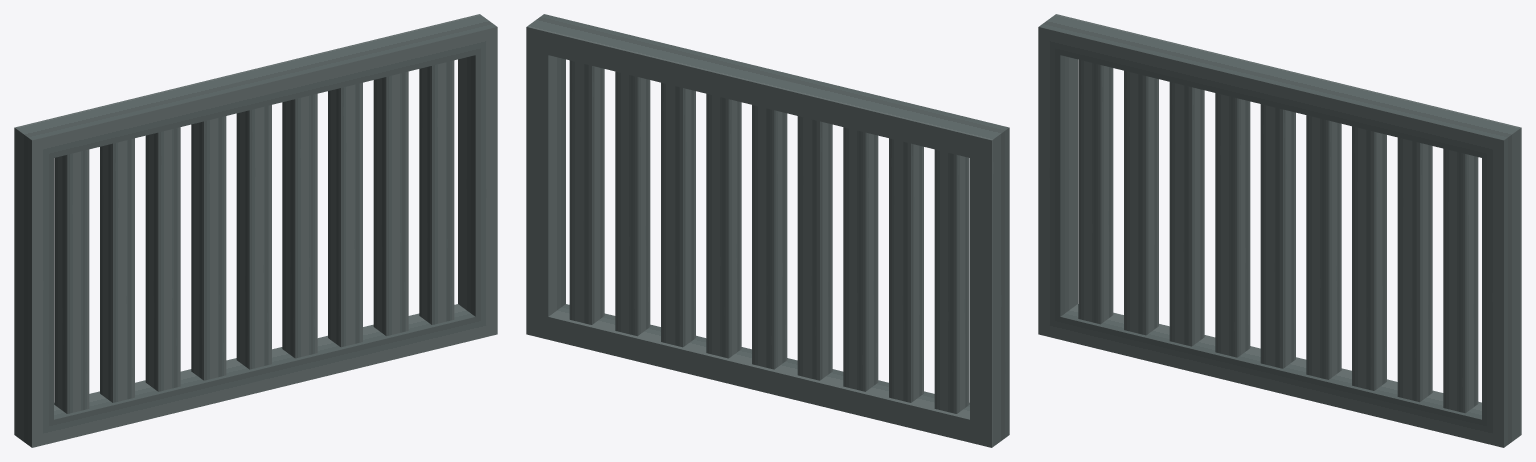
File: 3ST_School_Door.fbx
The picture shows the model from 3 angles, left to right: view 1: azimuth 30°, elevation 25°; view 2: azimuth 150°, elevation 25°; view 3: azimuth 330°, elevation 25°; orthographic projection.
Parts seen in each view (by area): view 1: Cube.001; view 2: Cube.001; view 3: Cube.001.
Part boxes in pixels (box(x1,y1,x2,y2)): Cube.001: box(14, 14, 497, 447); Cube.001: box(526, 14, 1009, 447); Cube.001: box(1038, 14, 1521, 447).
Size of the model in its own units: 276 by 174 by 18.09.
